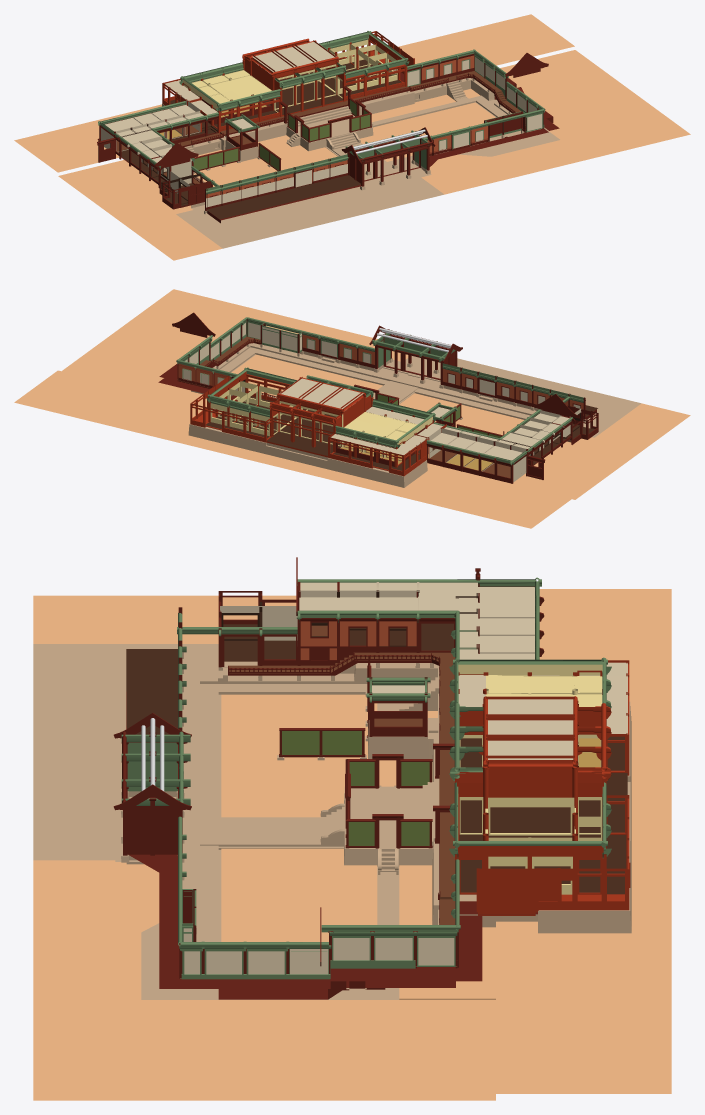
Rendered from ModelingBase_OptimizePartial_2.13.fbx.
3 views of the same model, one above another, from view 1: azimuth 30°, elevation 25°; view 2: azimuth 150°, elevation 25°; view 3: azimuth 270°, elevation 25° (orthographic). The views are drawn at different scales.
Visible parts, largest first — view 1: GroundPlane, Haenggak, Daejojeon, Foundation, Ceiling1, Screens_Platform, Cube.009, Screens_Courtyard, Haenggak.001, Ceiling1.002, RoofSupport_Outer.001; view 2: GroundPlane, Haenggak, Daejojeon, Foundation, Ceiling1, Haenggak.001, Cube.009, Ceiling1.002, RoofSupport_Outer.001; view 3: GroundPlane, Haenggak, Foundation, Daejojeon, Ceiling1, Screens_Platform, Ceiling1.002, Screens_Courtyard, Haenggak.001, Cube.007, RoofSupport_Outer.001.
Part boxes in pixels (box(x1,y1,x2,y2)): GroundPlane: box(14, 14, 690, 260); Haenggak: box(97, 49, 559, 223); Daejojeon: box(162, 31, 414, 133); Foundation: box(162, 69, 553, 214); Ceiling1: box(117, 42, 336, 162); Screens_Platform: box(280, 86, 371, 142); Cube.009: box(155, 53, 548, 167); Screens_Courtyard: box(193, 143, 281, 173); Haenggak.001: box(98, 101, 199, 151); Ceiling1.002: box(105, 105, 195, 131); RoofSupport_Outer.001: box(353, 129, 427, 153); GroundPlane: box(14, 289, 690, 528); Haenggak: box(158, 317, 598, 479); Daejojeon: box(190, 367, 446, 476); Foundation: box(159, 336, 589, 487); Ceiling1: box(279, 378, 569, 454); Haenggak.001: box(426, 428, 527, 483); Cube.009: box(172, 312, 577, 417); Ceiling1.002: box(431, 433, 522, 460); RoofSupport_Outer.001: box(377, 328, 451, 352); GroundPlane: box(33, 589, 671, 1100); Haenggak: box(121, 568, 537, 988); Foundation: box(115, 652, 631, 999); Daejojeon: box(449, 657, 630, 915); Ceiling1: box(299, 582, 627, 759); Screens_Platform: box(345, 743, 454, 848); Ceiling1.002: box(478, 587, 534, 659); Screens_Courtyard: box(277, 655, 371, 760); Haenggak.001: box(478, 577, 544, 659); Cube.007: box(113, 713, 191, 810); RoofSupport_Outer.001: box(141, 718, 164, 791).
Size of the model in its own units: 8272 by 833 by 4422.
